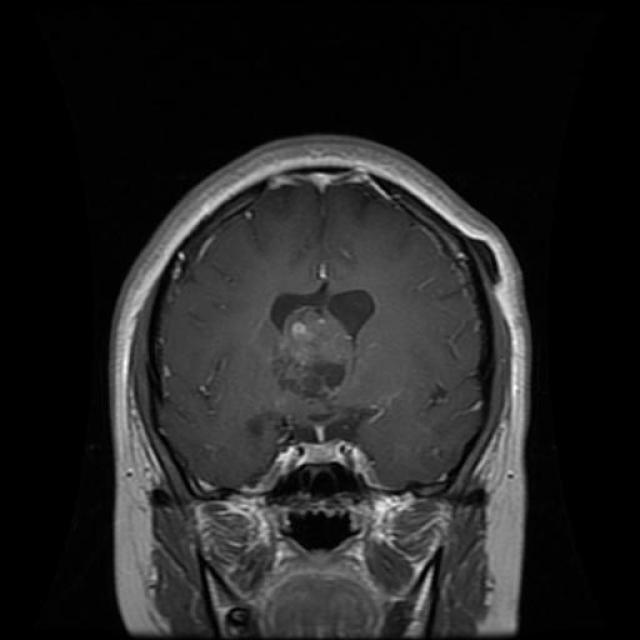glioma: (268, 280, 382, 415)
